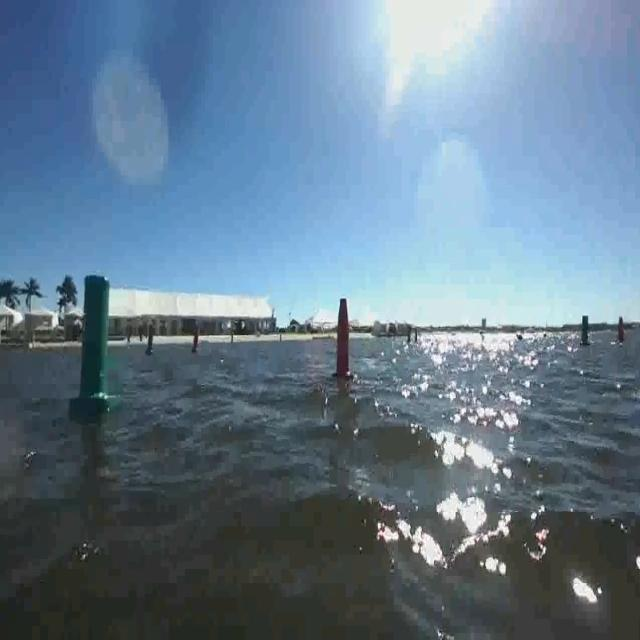green-column-buoy: (71, 272, 117, 418), (145, 323, 157, 356), (578, 317, 590, 349)
red-column-buoy: (334, 295, 354, 382), (192, 328, 203, 356), (618, 316, 627, 342)
